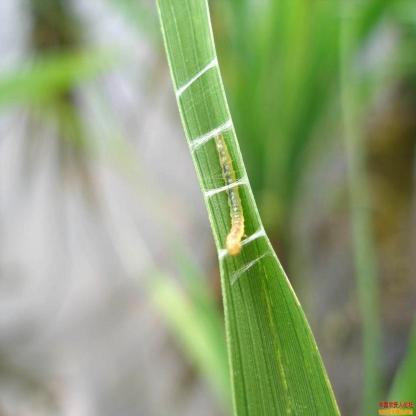leaf-folder: (210, 117, 259, 257)
